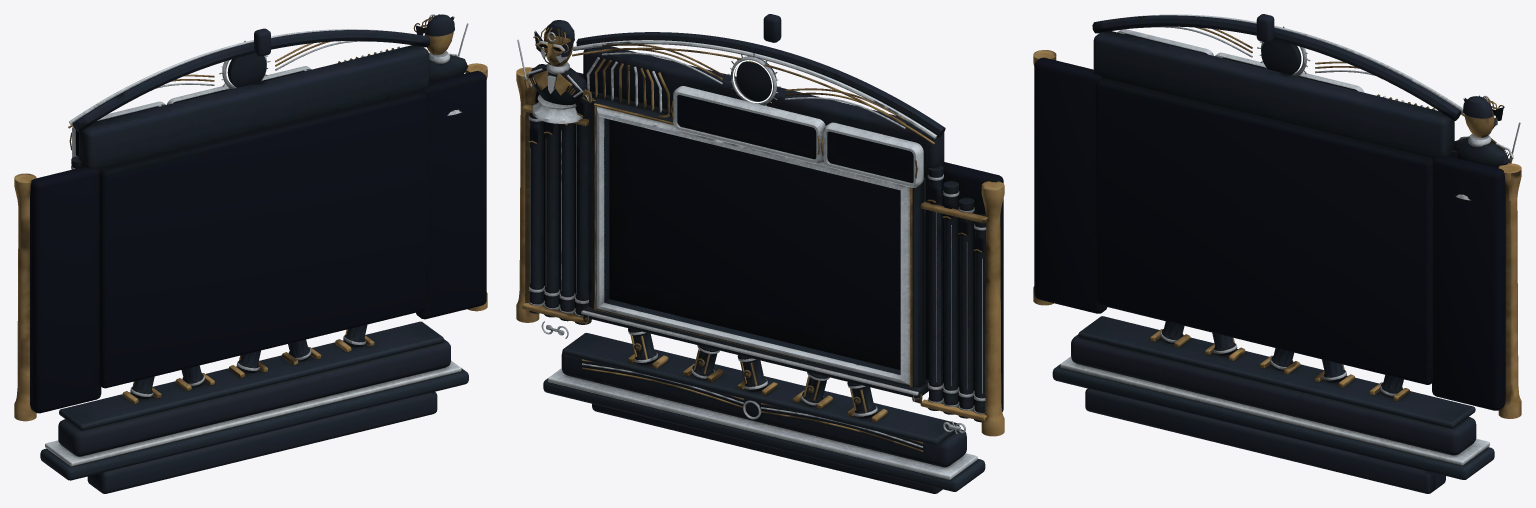
3 views of the same model, side by side, from view 1: azimuth 30°, elevation 25°; view 2: azimuth 150°, elevation 25°; view 3: azimuth 330°, elevation 25° (orthographic). The views are drawn at different scales.
Visible parts, largest first — view 1: Even_charcoal, Black_ceramic_enamel, Slate_stage, Brushed_platinum, Champagne_brass; view 2: Even_charcoal, Black_ceramic_enamel, Brushed_platinum, Champagne_brass, Slate_stage; view 3: Even_charcoal, Black_ceramic_enamel, Slate_stage, Brushed_platinum, Champagne_brass.
Boxes of the visible parts, x1,y1,x2,y2 form: Even_charcoal: [30, 27, 486, 413]; Black_ceramic_enamel: [58, 14, 468, 493]; Slate_stage: [40, 321, 468, 480]; Brushed_platinum: [45, 14, 468, 466]; Champagne_brass: [14, 14, 487, 421]; Even_charcoal: [529, 42, 1003, 411]; Black_ceramic_enamel: [528, 14, 986, 493]; Brushed_platinum: [517, 32, 986, 479]; Champagne_brass: [516, 27, 1004, 452]; Slate_stage: [543, 333, 985, 491]; Even_charcoal: [1034, 33, 1505, 410]; Black_ceramic_enamel: [1071, 14, 1509, 493]; Slate_stage: [1052, 316, 1494, 479]; Brushed_platinum: [1060, 14, 1520, 465]; Champagne_brass: [1033, 27, 1521, 418].
Size of the model in its own units: 11.06 by 9.4 by 1.45.
6 materials, 5 textured.
